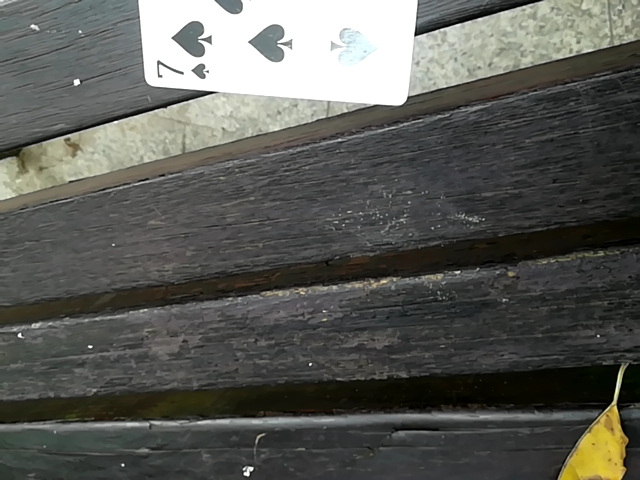ht 7: (118, 1, 436, 106)
